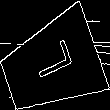L_W: (27, 42, 76, 89)
